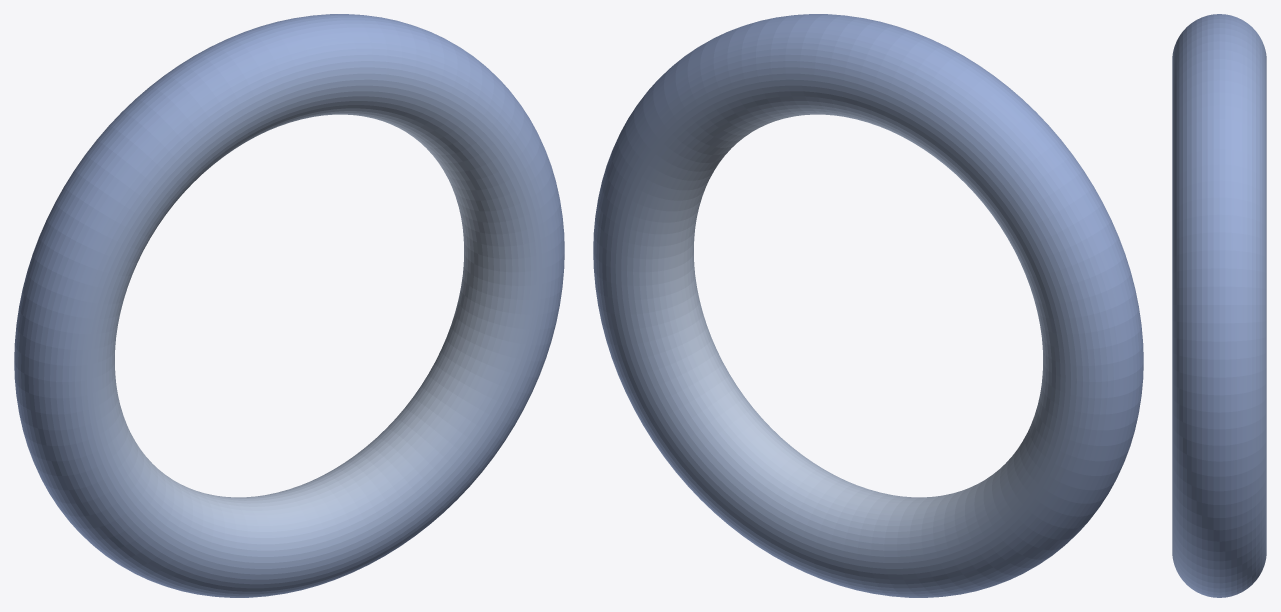
The picture shows the model from 3 angles, left to right: view 1: azimuth 30°, elevation 25°; view 2: azimuth 150°, elevation 25°; view 3: azimuth 270°, elevation 25°; orthographic projection. The views are drawn at different scales.
Visible parts, largest first — view 1: world; view 2: world; view 3: world.
Part boxes in pixels (<box>): world: <box>14,14,564,597</box>; world: <box>593,14,1143,597</box>; world: <box>1172,14,1266,597</box>.
Size of the model in its own units: 25.47 by 25.47 by 4.13.
